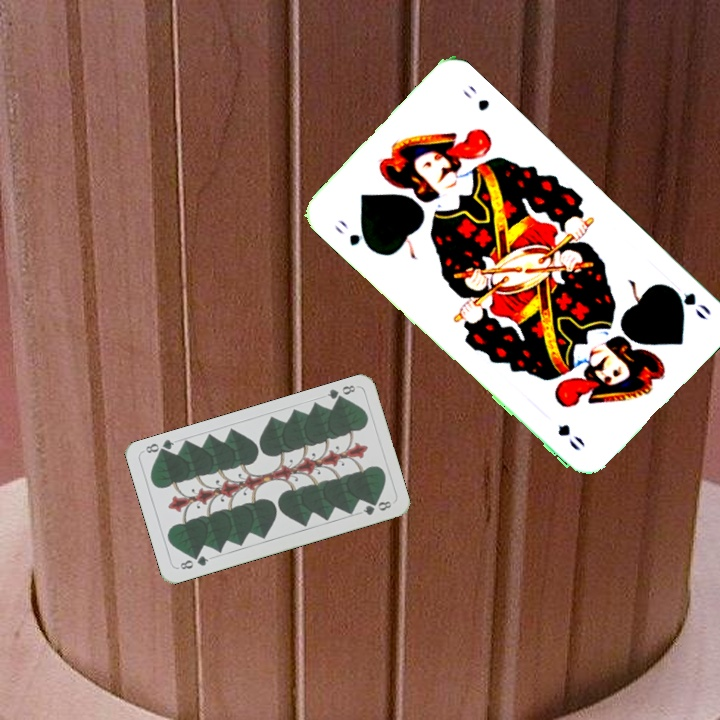G8: (323, 381, 358, 405), (176, 551, 211, 572)
GO: (662, 281, 714, 323), (330, 215, 376, 254)
